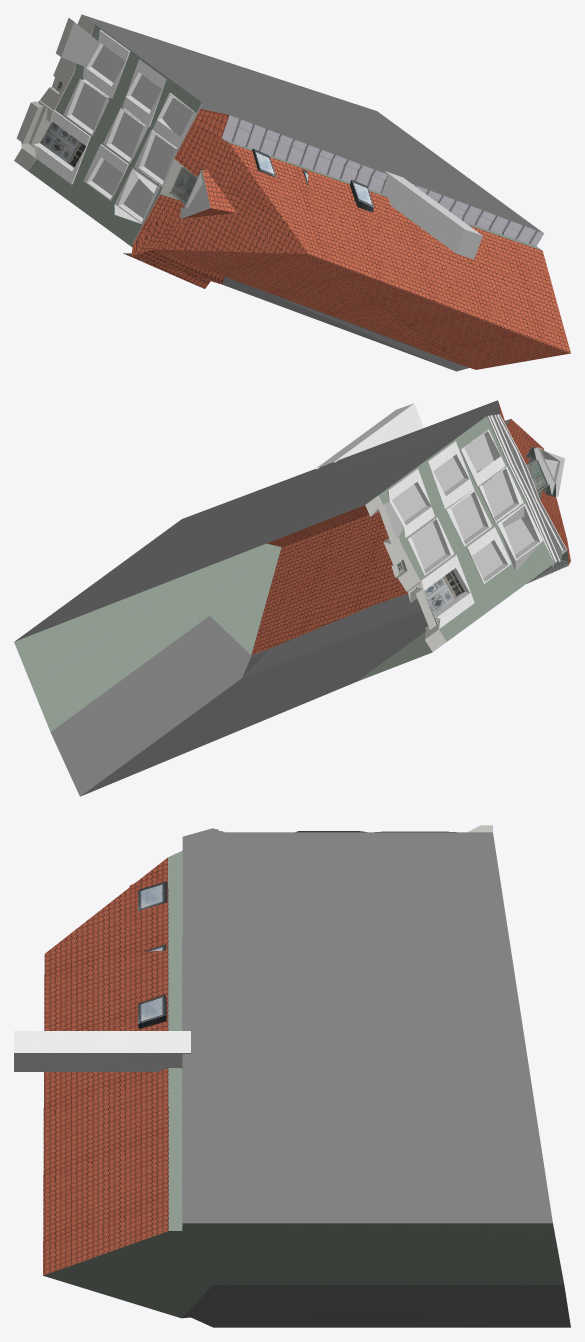
Rendered from Pikk_44-origo.obj.
The picture shows the model from 3 angles, top to bottom: view 1: azimuth 30°, elevation 25°; view 2: azimuth 150°, elevation 25°; view 3: azimuth 270°, elevation 25°; orthographic projection. The views are drawn at different scales.
Visible parts, largest first — view 1: Pikk_44; view 2: Pikk_44; view 3: Pikk_44.
Boxes of the visible parts, x1,y1,x2,y2 form: Pikk_44: [14, 14, 570, 371]; Pikk_44: [14, 400, 570, 796]; Pikk_44: [14, 825, 570, 1327].
Bounding box in the file's own units: 19.44 × 15 × 21.
